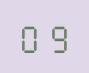nine: (44, 20, 68, 53)
zero: (19, 20, 43, 53)
